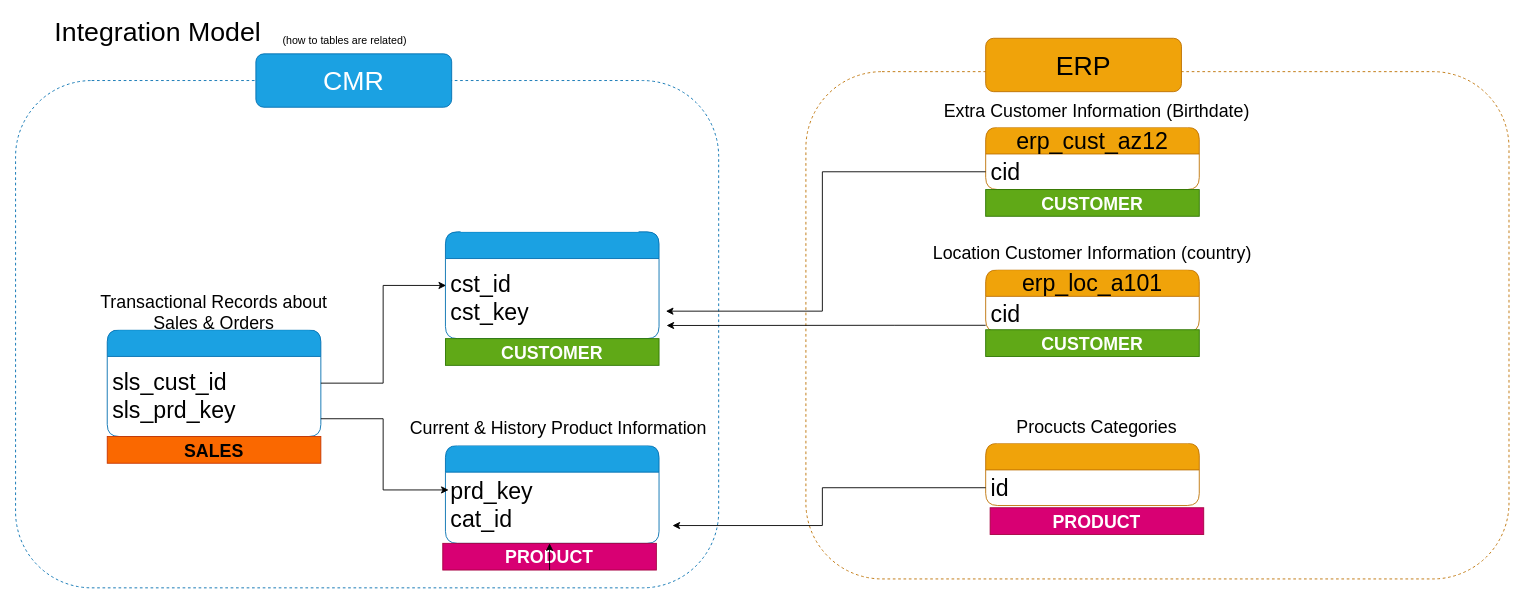
This 1525x603 diagram has some shape labels left out. The shapes that lost their labels are listed below. From the top down, each one's box as (x1, y1, x2, y2) in pixels, then its label:
(460, 196, 638, 231): Customer Information
(445, 231, 659, 339): cmr_cust_info
(106, 329, 321, 437): cmr_sales_details
(445, 445, 659, 543): cmr_prd_info
(985, 442, 1199, 506): erp_px_cat_g1v2
